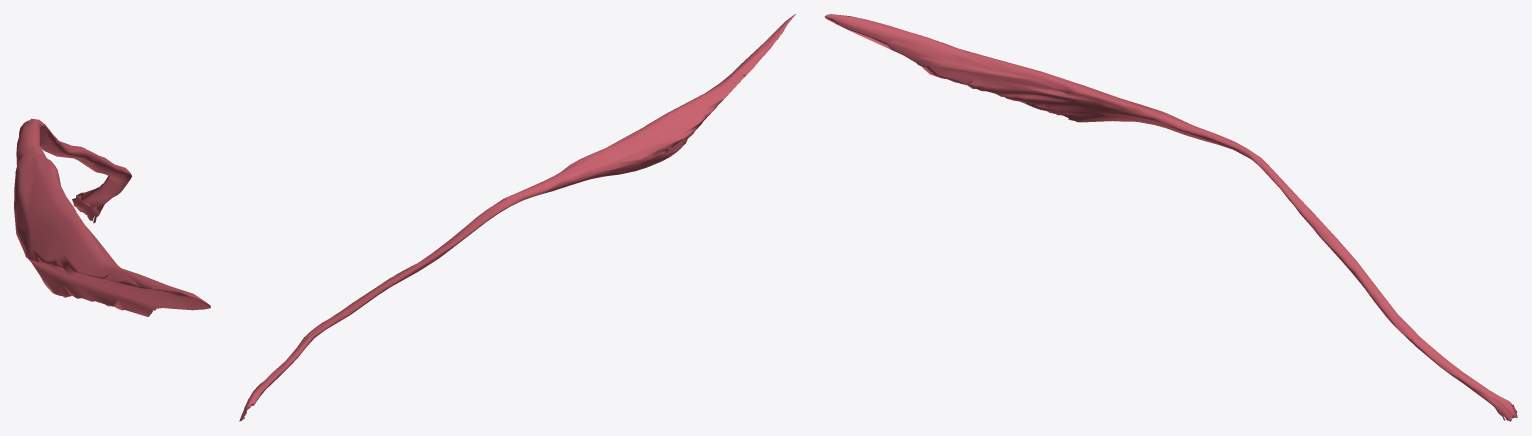
3 views of the same model, side by side, from view 1: azimuth 30°, elevation 25°; view 2: azimuth 150°, elevation 25°; view 3: azimuth 270°, elevation 25° (orthographic). The views are drawn at different scales.
Parts seen in each view (by area): view 1: 左侧拇长伸肌; view 2: 左侧拇长伸肌; view 3: 左侧拇长伸肌.
Boxes of the visible parts, x1,y1,x2,y2 form: 左侧拇长伸肌: (14, 118, 210, 316); 左侧拇长伸肌: (239, 14, 795, 421); 左侧拇长伸肌: (824, 14, 1517, 421).
Bounding box in the file's own units: 0.1448 × 0.1335 × 0.3081.
